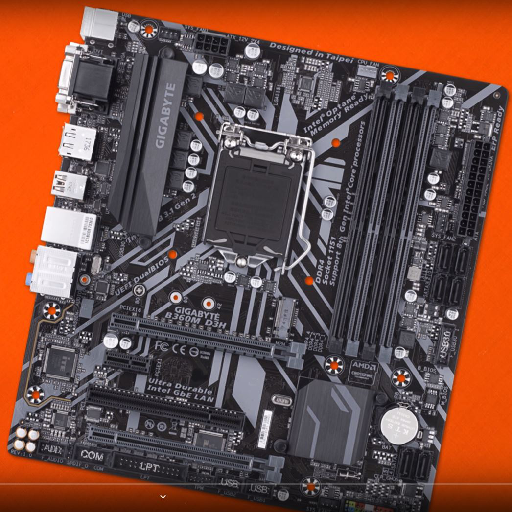CPU: (201, 142, 309, 272)
GPU: (86, 422, 284, 484), (107, 309, 308, 368)
MOTHERBOARD: (11, 5, 509, 509)
RAM: (325, 81, 440, 365)
SSD: (267, 295, 300, 339)
